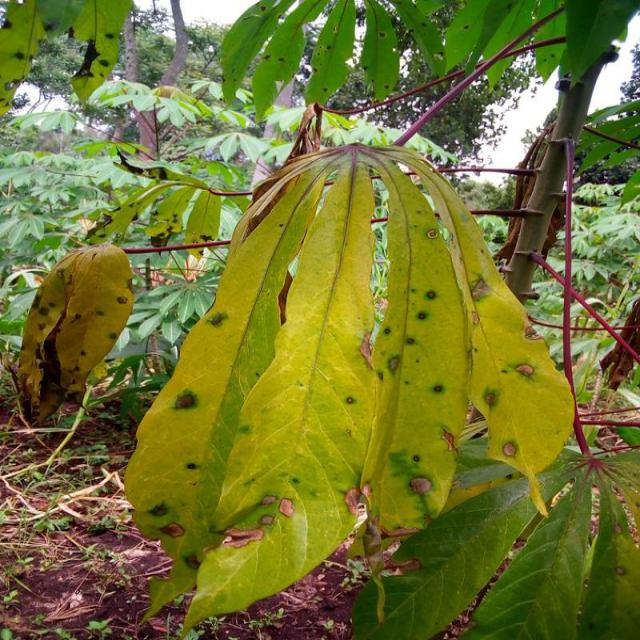cassava leaf: (122, 138, 576, 636), (16, 241, 134, 424)
